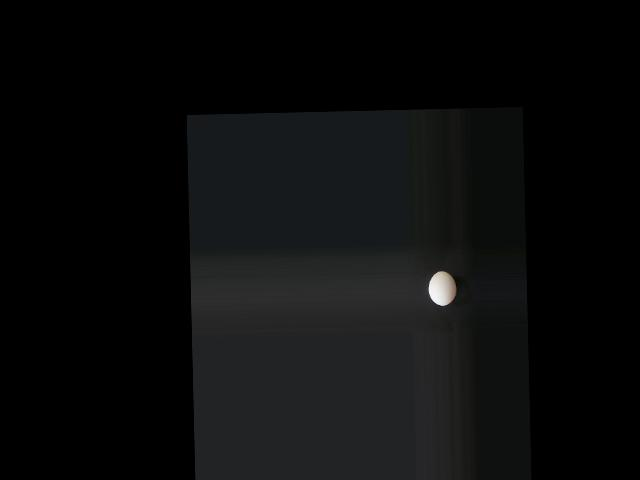egg: (428, 270, 456, 304)
